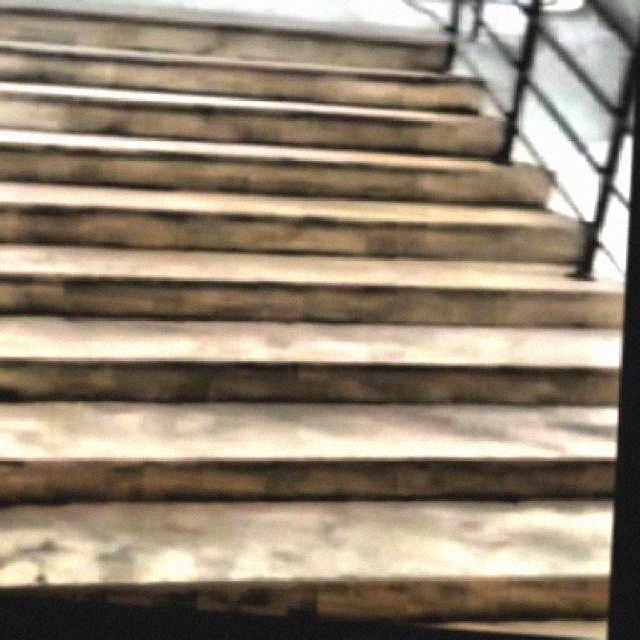stair: (2, 4, 639, 640)
